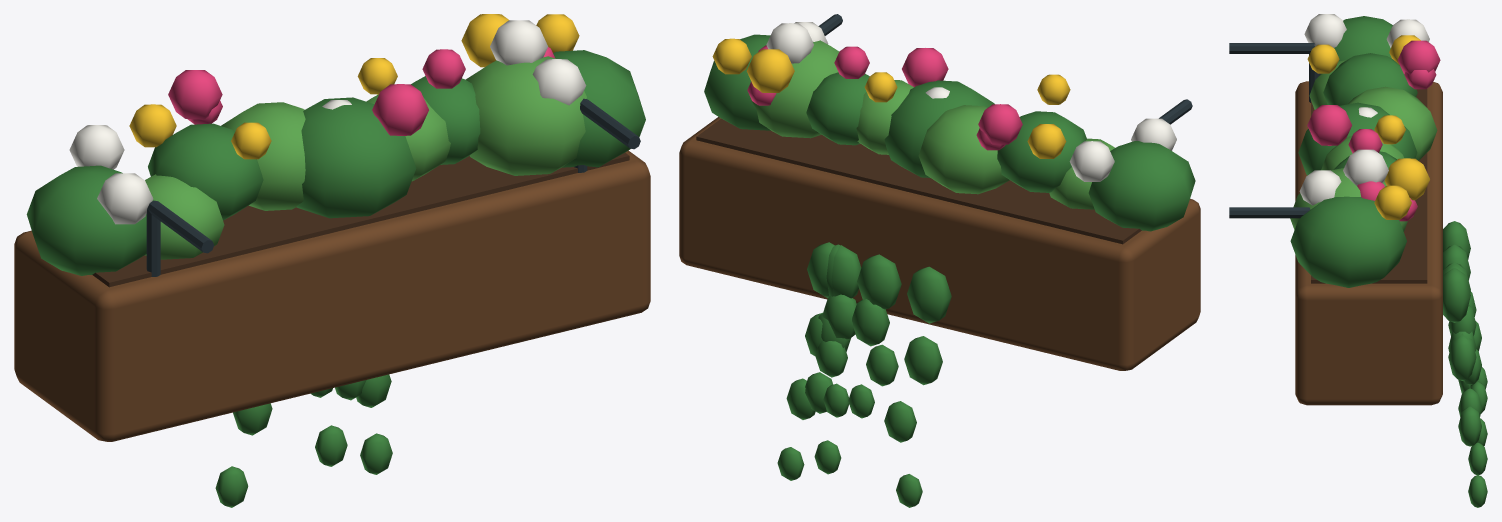
The model's file is rt_flowers_a.glb.
3 views of the same model, side by side, from view 1: azimuth 30°, elevation 25°; view 2: azimuth 150°, elevation 25°; view 3: azimuth 270°, elevation 25° (orthographic). The views are drawn at different scales.
Parts seen in each view (by area): view 1: rt_flowers_a_body; view 2: rt_flowers_a_body; view 3: rt_flowers_a_body.
Part boxes in pixels (x1=…): rt_flowers_a_body: x1=14, y1=14, x2=650, y2=507; rt_flowers_a_body: x1=679, y1=14, x2=1200, y2=507; rt_flowers_a_body: x1=1229, y1=14, x2=1487, y2=507.
Size of the model in its own units: 1.4 by 1.1 by 0.6652.
